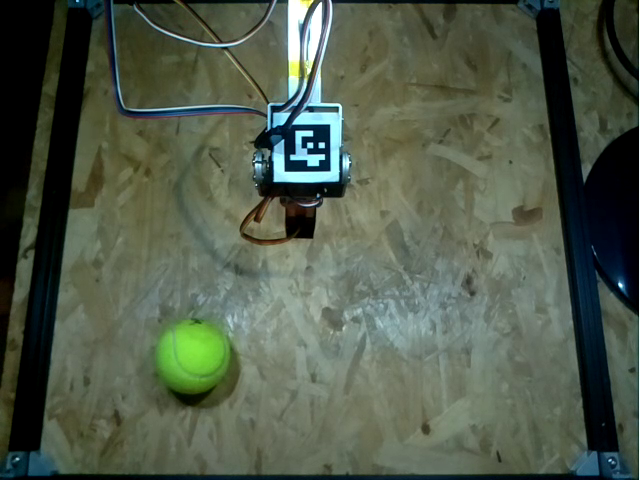tennis_ball: (156, 321, 228, 396)
